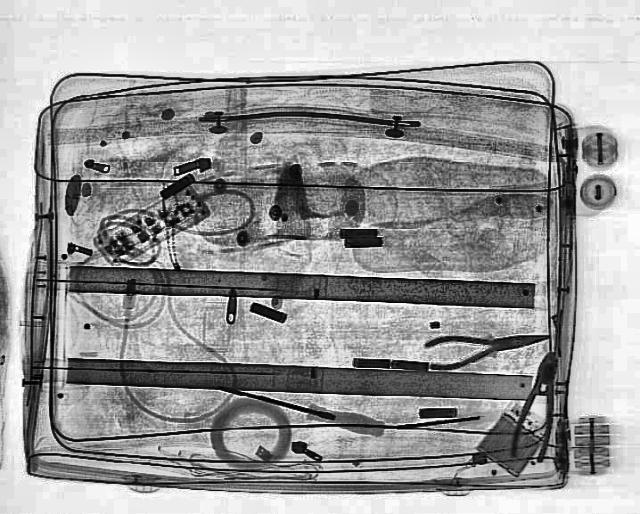Pliers: (421, 319, 552, 371), (507, 352, 567, 462)
